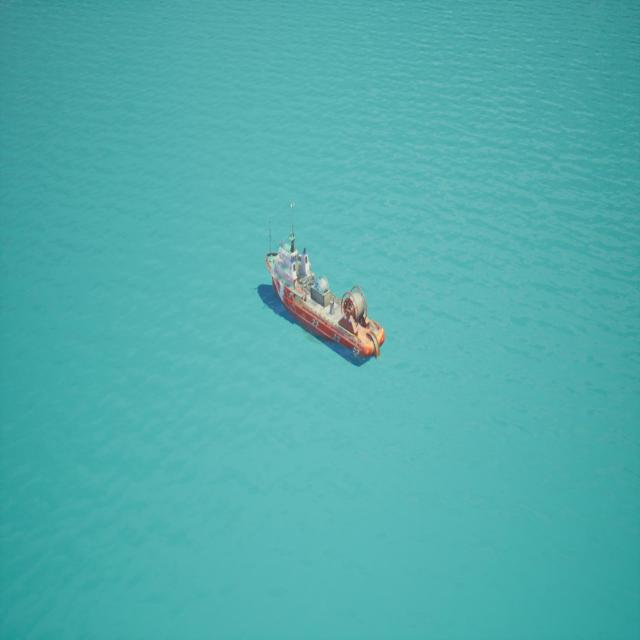tug boat: (260, 189, 400, 371)
